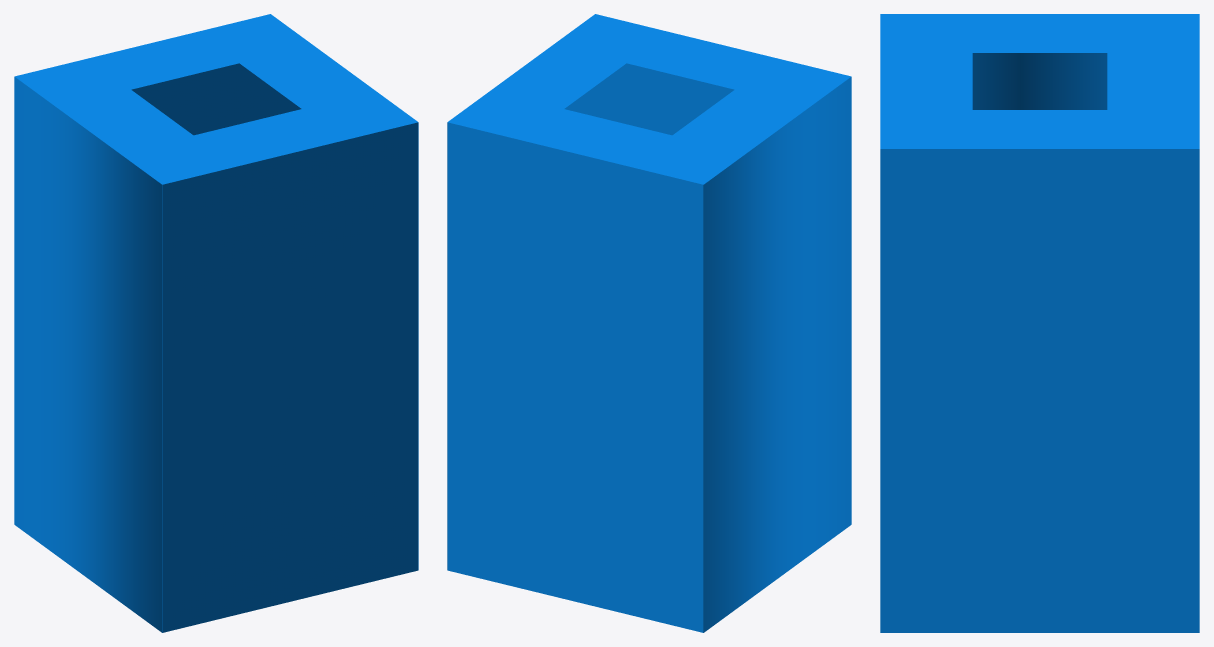
Rendered from Square_Corner.fbx.
3 renders of one model, left to right at view 1: azimuth 30°, elevation 25°; view 2: azimuth 150°, elevation 25°; view 3: azimuth 270°, elevation 25°, orthographic. The views are drawn at different scales.
Parts seen in each view (by area): view 1: Wall_1; view 2: Wall_1; view 3: Wall_1.
Boxes of the visible parts, x1,y1,x2,y2 form: Wall_1: (14,14,418,632); Wall_1: (447,14,851,632); Wall_1: (880,14,1199,632).
Bounding box in the file's own units: 100 × 167 × 100.
